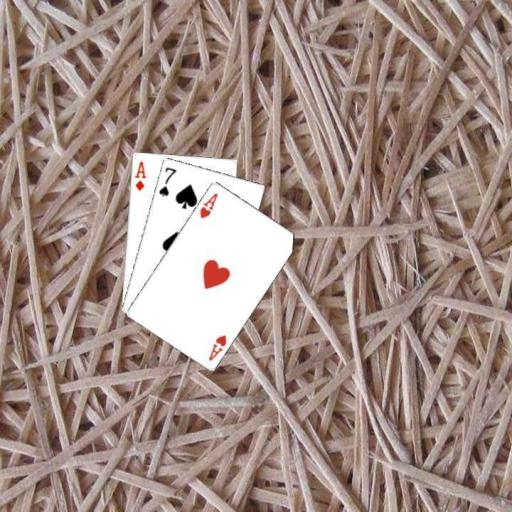card-corner: (156, 164, 178, 198), (196, 189, 219, 220), (206, 331, 228, 362), (132, 158, 147, 192)
